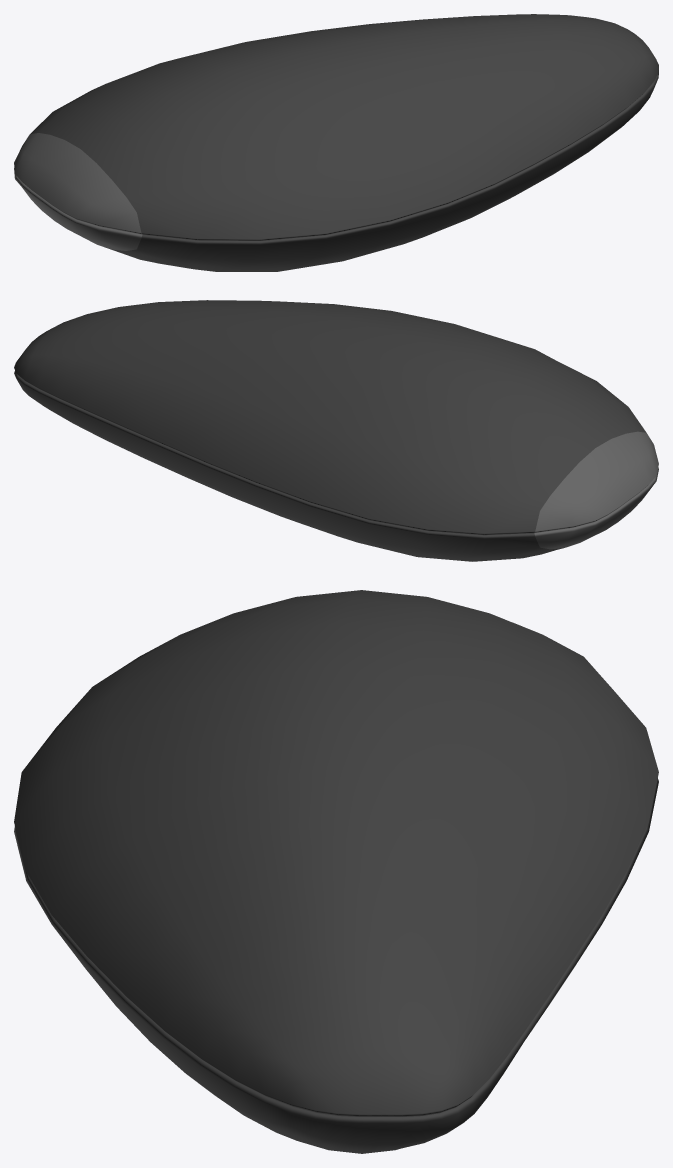
Rendered from Mussel_Closed.fbx.
3 renders of one model, top to bottom at view 1: azimuth 30°, elevation 25°; view 2: azimuth 150°, elevation 25°; view 3: azimuth 270°, elevation 25°, orthographic. The views are drawn at different scales.
Parts seen in each view (by area): view 1: Mussel_Closed; view 2: Mussel_Closed; view 3: Mussel_Closed.
Boxes of the visible parts, x1,y1,x2,y2 form: Mussel_Closed: (14,14,658,271); Mussel_Closed: (14,300,658,561); Mussel_Closed: (14,590,658,1153).
Size of the model in its own units: 8.64 by 2.68 by 4.88.
